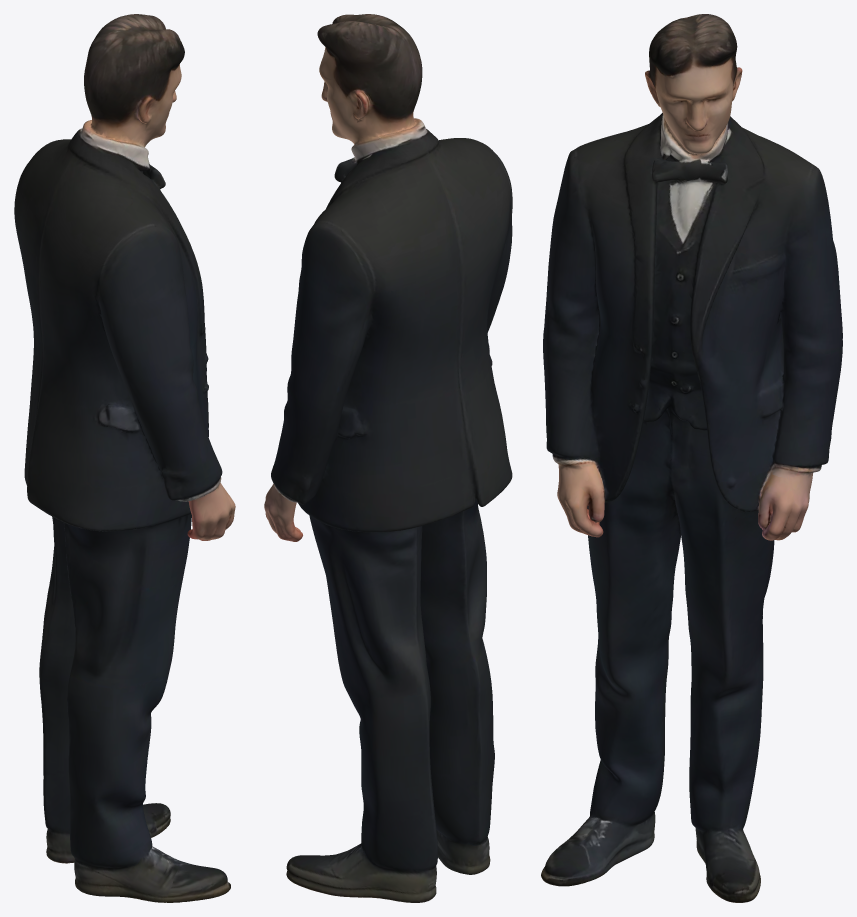
File: nikola-tesla.glb
The picture shows the model from 3 angles, left to right: view 1: azimuth 30°, elevation 25°; view 2: azimuth 150°, elevation 25°; view 3: azimuth 270°, elevation 25°; orthographic projection. The views are drawn at different scales.
Parts seen in each view (by area): view 1: tripo_node_0b73b0b4-34be-4cff-9a77-cbac24d98444; view 2: tripo_node_0b73b0b4-34be-4cff-9a77-cbac24d98444; view 3: tripo_node_0b73b0b4-34be-4cff-9a77-cbac24d98444.
Part boxes in pixels (left/top/right/bottom): tripo_node_0b73b0b4-34be-4cff-9a77-cbac24d98444: left=14, top=14, right=235, bottom=902; tripo_node_0b73b0b4-34be-4cff-9a77-cbac24d98444: left=264, top=14, right=512, bottom=902; tripo_node_0b73b0b4-34be-4cff-9a77-cbac24d98444: left=541, top=14, right=842, bottom=902.
Bounding box in the file's own units: 0.2125 × 1 × 0.3192.
Materials: 1 (1 with a texture image).
